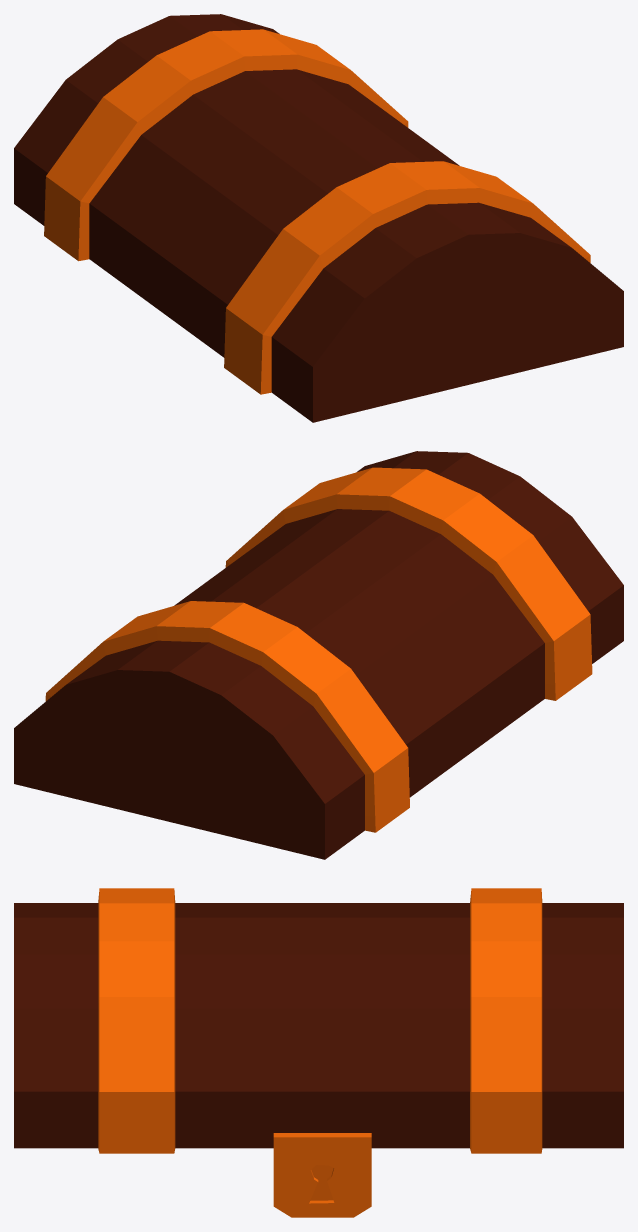
File: SM_Chest_1.FBX
The picture shows the model from 3 angles, top to bottom: view 1: azimuth 30°, elevation 25°; view 2: azimuth 150°, elevation 25°; view 3: azimuth 270°, elevation 25°; orthographic projection. The views are drawn at different scales.
Parts seen in each view (by area): view 1: SM_Chest_1; view 2: SM_Chest_1; view 3: SM_Chest_1.
Part boxes in pixels (x1,y1,x2,y2): SM_Chest_1: (14,14,623,422); SM_Chest_1: (14,451,623,859); SM_Chest_1: (14,888,623,1217).
Size of what is drawn, in the model's own units: 128 by 200 by 84.2.
